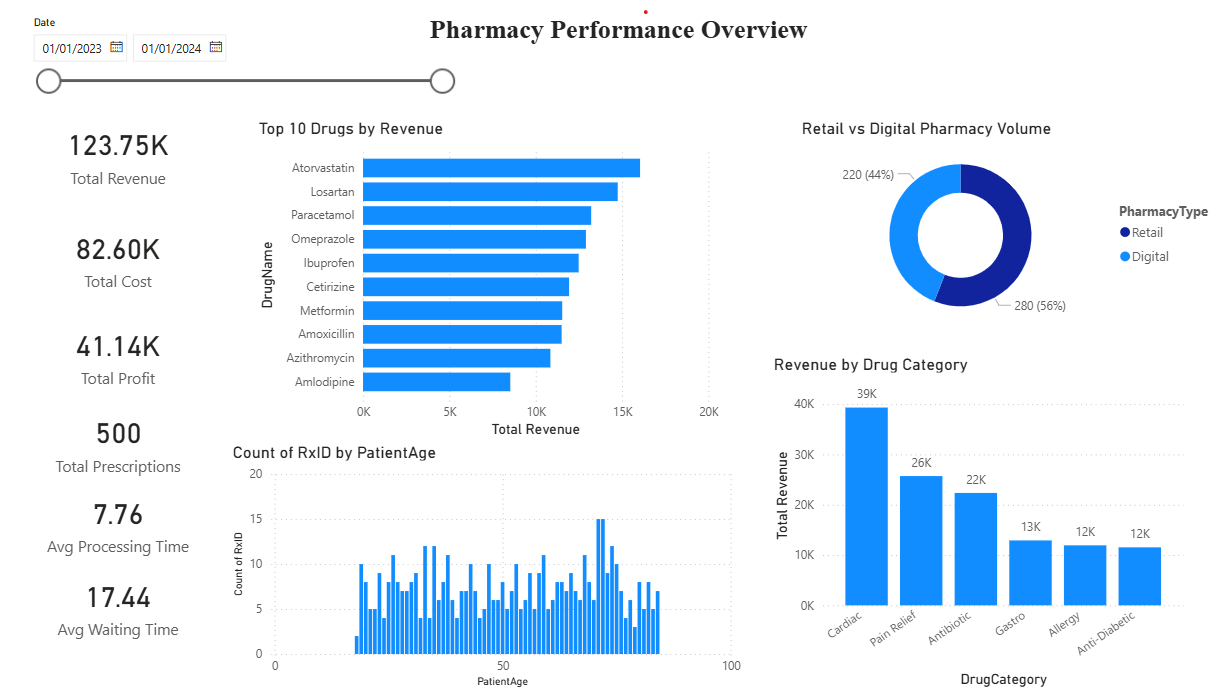

The page's visual inventory and layout, read from the dashboard file:
{"tool":"powerbi","page":{"name":"Pharmacy Performance Overview","canvas":[1280,720],"ordinal":0},"visuals":[{"type":"card","fields":{"Values":["pharmacy_operations_dataset.Total Revenue"]},"box":[0,110.9,279.4,113],"z":0},{"type":"card","fields":{"Values":["pharmacy_operations_dataset.Total Cost"]},"box":[0,223.9,279.4,99.6],"z":1000},{"type":"card","fields":{"Values":["pharmacy_operations_dataset.Avg Processing Time"]},"box":[0,498.2,279.4,95.5],"z":2000},{"type":"card","fields":{"Values":["pharmacy_operations_dataset.Total Profit"]},"box":[0,323.6,279.4,99.6],"z":3000},{"type":"card","fields":{"Values":["pharmacy_operations_dataset.Total Prescriptions"]},"box":[0,420.2,279.4,86.3],"z":4000},{"type":"card","fields":{"Values":["pharmacy_operations_dataset.Avg Waiting Time"]},"box":[0,586.6,279.4,89.4],"z":5000},{"type":"barChart","title":"Top 10 Drugs by Revenue","fields":{"Y":["pharmacy_operations_dataset.Total Revenue"],"Category":["pharmacy_operations_dataset.DrugName"]},"box":[279.4,130.5,481.8,332.8],"z":6000},{"type":"columnChart","title":"Revenue by Drug Category","fields":{"Category":["pharmacy_operations_dataset.DrugCategory"],"Y":["pharmacy_operations_dataset.Total Revenue"]},"box":[808.5,372.9,431.5,347.2],"z":7000},{"type":"donutChart","title":"Retail vs Digital Pharmacy Volume","fields":{"Category":["pharmacy_operations_dataset.PharmacyType"],"Y":["pharmacy_operations_dataset.Total Prescriptions"]},"box":[837.2,130.5,442.8,221.9],"z":8000},{"type":"columnChart","fields":{"Category":["pharmacy_operations_dataset.PatientAge"],"Y":["CountNonNull(pharmacy_operations_dataset.RxID)"]},"box":[252.7,463.3,532.1,256.8],"z":9000},{"type":"slicer","fields":{"Values":["pharmacy_operations_dataset.Date"]},"box":[40.1,20.5,454.1,100.7],"z":9001},{"type":"textbox","box":[455.1,19.5,587.6,51.4],"z":9002}]}

Visuals, with their boxes in screenshot pixels (x1, y1, x2, y2), scaled from the page's 1280x720 canvas onto the 1226x689 screenshot:
card - pharmacy_operations_dataset.Total Revenue: <bbox>0, 106, 268, 214</bbox>
card - pharmacy_operations_dataset.Total Cost: <bbox>0, 214, 268, 310</bbox>
card - pharmacy_operations_dataset.Avg Processing Time: <bbox>0, 477, 268, 568</bbox>
card - pharmacy_operations_dataset.Total Profit: <bbox>0, 310, 268, 405</bbox>
card - pharmacy_operations_dataset.Total Prescriptions: <bbox>0, 402, 268, 485</bbox>
card - pharmacy_operations_dataset.Avg Waiting Time: <bbox>0, 561, 268, 647</bbox>
"Top 10 Drugs by Revenue" barChart: <bbox>268, 125, 729, 443</bbox>
"Revenue by Drug Category" columnChart: <bbox>774, 357, 1188, 688</bbox>
"Retail vs Digital Pharmacy Volume" donutChart: <bbox>802, 125, 1225, 337</bbox>
columnChart - pharmacy_operations_dataset.PatientAge x CountNonNull(pharmacy_operations_dataset.RxID): <bbox>242, 443, 752, 688</bbox>
slicer - pharmacy_operations_dataset.Date: <bbox>38, 20, 473, 116</bbox>
textbox: <bbox>436, 19, 999, 68</bbox>
